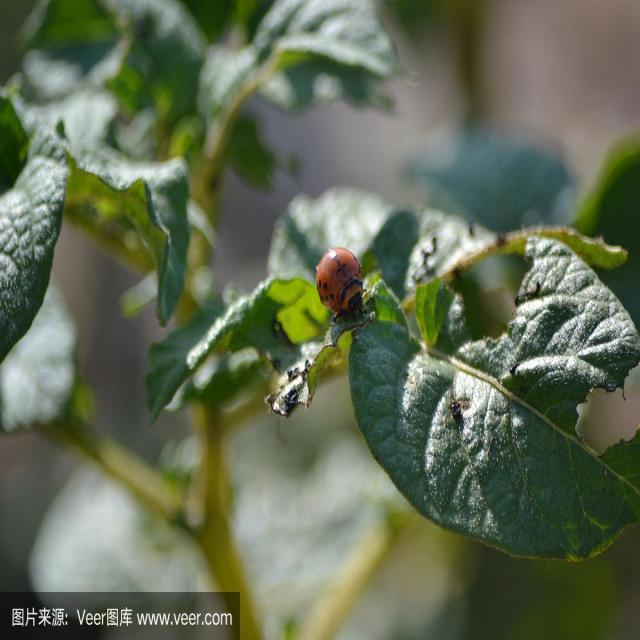ShuCaiHuaBanChong-Larva-: (311, 239, 377, 322)
